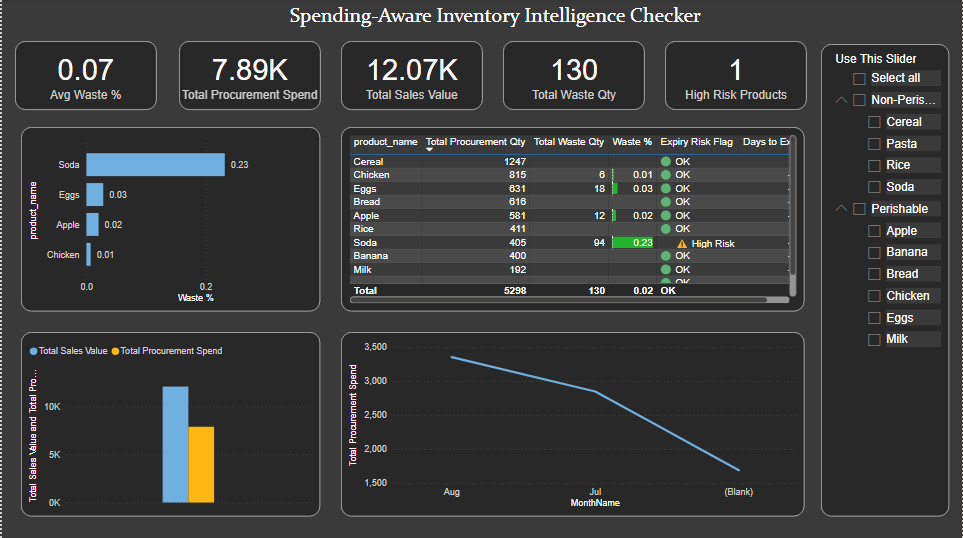

Layout of this report page (visuals, bound fields, positions):
{"tool":"powerbi","page":{"name":"Page 3","canvas":[1280,720],"ordinal":1},"visuals":[{"type":"card","fields":{"Values":["dim_product.Avg Waste %"]},"box":[17.9,56.4,188.6,92.2],"z":0},{"type":"clusteredBarChart","fields":{"Category":["dim_product.product_name"],"Y":["fact_inventory_movements.Waste %"]},"box":[24.8,170.7,399.1,246.4],"z":1000},{"type":"clusteredColumnChart","fields":{"Y":["fact_sales_orders.Total Sales Value","fact_procurement_orders.Total Procurement Spend"]},"box":[24.8,444.6,399.1,246.4],"z":2000},{"type":"lineChart","fields":{"Y":["fact_procurement_orders.Total Procurement Spend"],"Category":["DateTable.MonthName"]},"box":[451.4,444.6,618,246.4],"z":3000},{"type":"tableEx","fields":{"Values":["dim_product.product_name","fact_procurement_orders.Total Procurement Qty","fact_inventory_movements.Total Waste Qty","fact_inventory_movements.Waste %","fact_inventory_movements.Expiry Risk Flag","fact_inventory_movements.Days to Expiry"]},"box":[451.4,170.7,618,246.4],"z":4000},{"type":"slicer","fields":{"Values":["dim_product.category","dim_product.product_name"]},"box":[1091.4,60.6,170.7,630.4],"z":5000},{"type":"textbox","box":[378.5,0,578.1,56.4],"z":6000},{"type":"card","fields":{"Values":["fact_procurement_orders.Total Procurement Spend"]},"box":[235.4,56.4,188.6,92.2],"z":7000},{"type":"card","fields":{"Values":["fact_sales_orders.Total Sales Value"]},"box":[451.4,56.4,188.6,92.2],"z":8000},{"type":"card","fields":{"Values":["fact_inventory_movements.Total Waste Qty"]},"box":[668,56,189.3,92],"z":9000},{"type":"card","fields":{"Values":["dim_product.High Risk Products"]},"box":[884,56,189.3,92],"z":10000}]}

Visuals, with their boxes in screenshot pixels (x1, y1, x2, y2), scaled from the page's 1280x720 canvas onto the 963x538 screenshot:
card - dim_product.Avg Waste %: 13,42,155,111
clusteredBarChart - dim_product.product_name x fact_inventory_movements.Waste %: 19,128,319,312
clusteredColumnChart - fact_sales_orders.Total Sales Value x fact_procurement_orders.Total Procurement Spend: 19,332,319,516
lineChart - fact_procurement_orders.Total Procurement Spend x DateTable.MonthName: 340,332,805,516
tableEx - dim_product.product_name x fact_procurement_orders.Total Procurement Qty: 340,128,805,312
slicer - dim_product.category x dim_product.product_name: 821,45,950,516
textbox: 285,0,720,42
card - fact_procurement_orders.Total Procurement Spend: 177,42,319,111
card - fact_sales_orders.Total Sales Value: 340,42,482,111
card - fact_inventory_movements.Total Waste Qty: 503,42,645,111
card - dim_product.High Risk Products: 665,42,807,111
